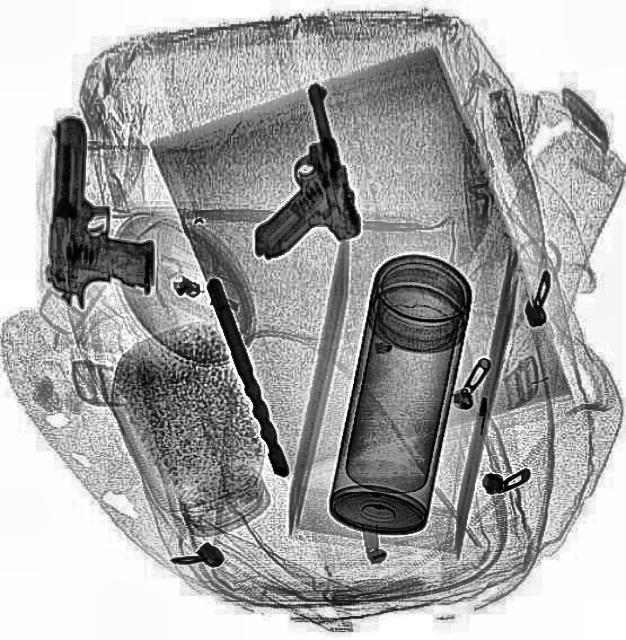Gun: (211, 81, 367, 261), (44, 115, 161, 308)
